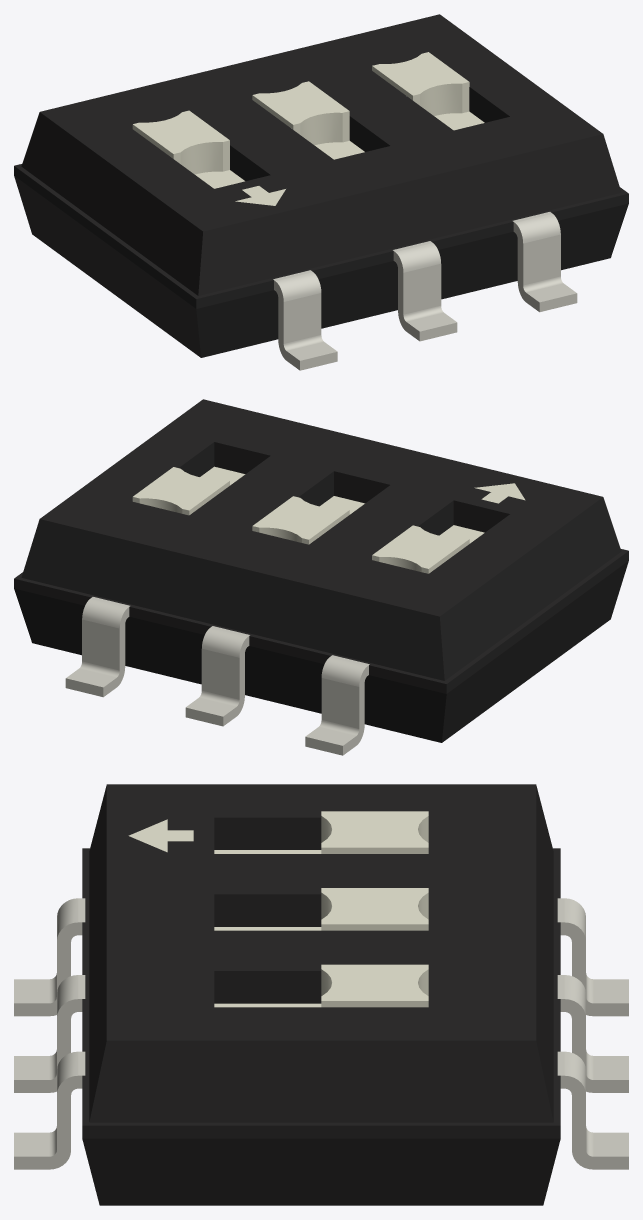
Rendered from kc-sw_dip_spstx03_slide_6.7x9.18mm_w8.61mm_p2.54mm_lowprofile.glb.
3 renders of one model, top to bottom at view 1: azimuth 30°, elevation 25°; view 2: azimuth 150°, elevation 25°; view 3: azimuth 270°, elevation 25°, orthographic. The views are drawn at different scales.
Visible parts, largest first — view 1: 0_0_0_0, 0.75_0.75_0.6666666666666666_0, 0.6666666666666666_0.6666666666666666_0.5833333333333334_0.8; view 2: 0_0_0_0, 0.6666666666666666_0.6666666666666666_0.5833333333333334_0.8, 0.75_0.75_0.6666666666666666_0; view 3: 0_0_0_0, 0.6666666666666666_0.6666666666666666_0.5833333333333334_0.8, 0.75_0.75_0.6666666666666666_0.
Part boxes in pixels (left/top/right/bottom): 0_0_0_0: left=14, top=14, right=628, bottom=357; 0.75_0.75_0.6666666666666666_0: left=132, top=52, right=484, bottom=205; 0.6666666666666666_0.6666666666666666_0.5833333333333334_0.8: left=273, top=212, right=577, bottom=370; 0_0_0_0: left=14, top=399, right=628, bottom=742; 0.6666666666666666_0.6666666666666666_0.5833333333333334_0.8: left=65, top=597, right=369, bottom=755; 0.75_0.75_0.6666666666666666_0: left=132, top=466, right=525, bottom=573; 0_0_0_0: left=82, top=784, right=560, bottom=1205; 0.6666666666666666_0.6666666666666666_0.5833333333333334_0.8: left=14, top=898, right=628, bottom=1169; 0.75_0.75_0.6666666666666666_0: left=128, top=811, right=428, bottom=1007.
Bounding box in the file's own units: 0.918 × 0.27 × 0.861.
